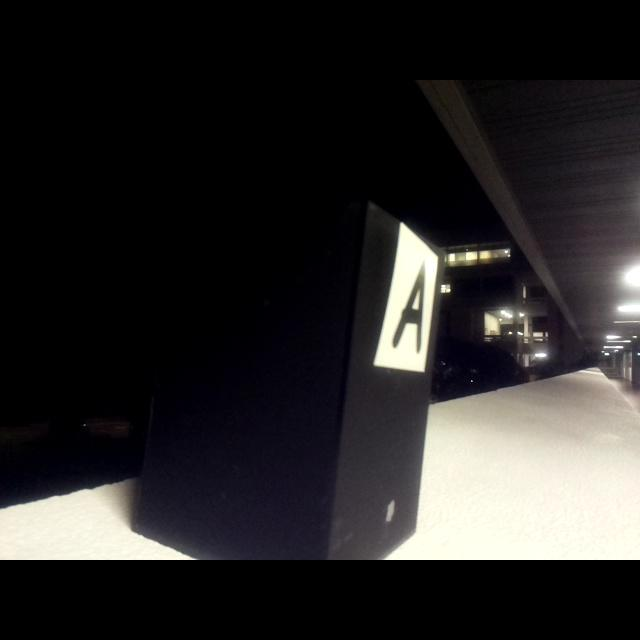A: (392, 260, 426, 355)
